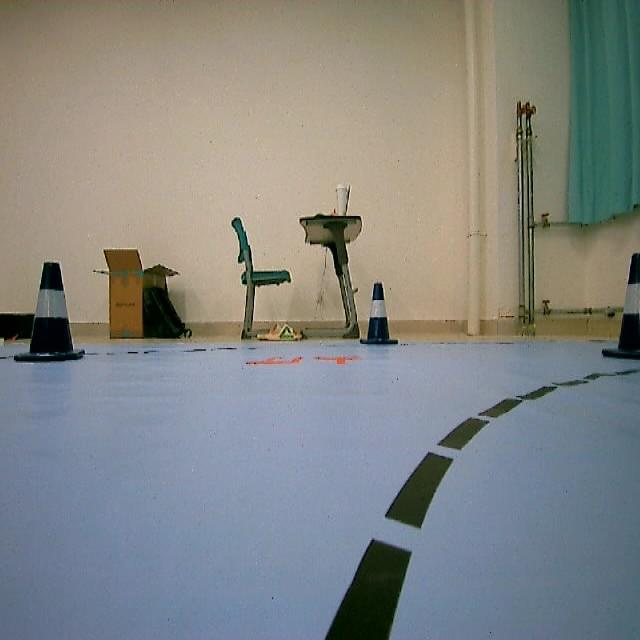obstacle: (23, 259, 77, 362), (367, 278, 394, 348)
